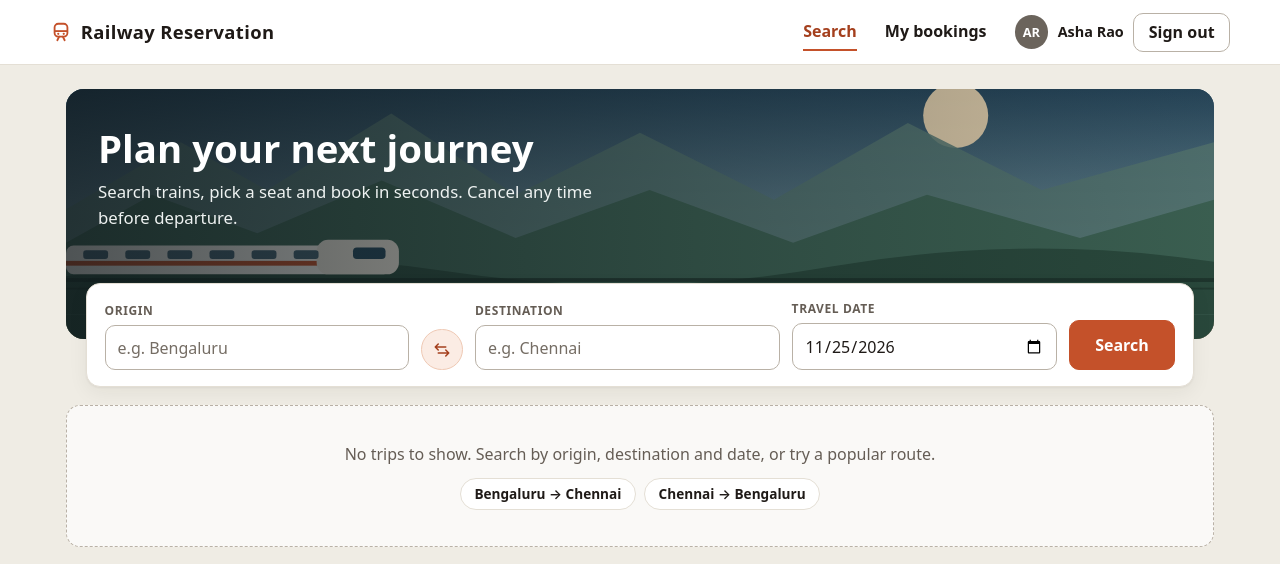
Test case: sign-out (SEC-03) › ends the server session, clears the stored session and returns to sign-in
The image size is (1280, 564).
Click the button "Sign out" at (1182, 32), box [1133,13,1230,52]
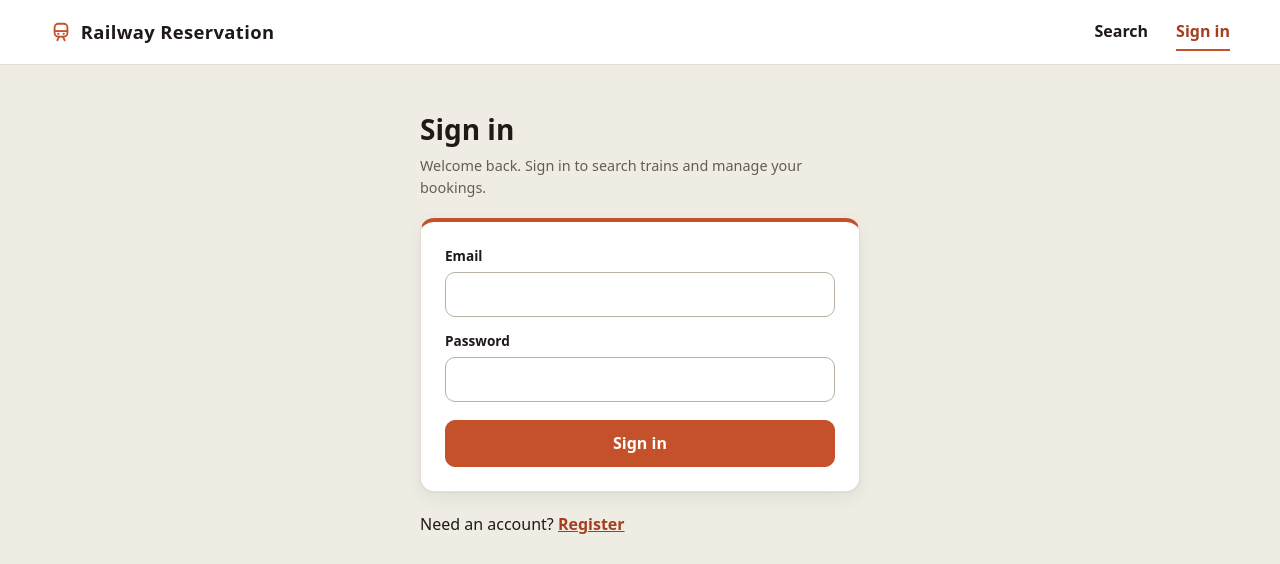
Check: the heading "Sign in" is shown, box [420,110,514,148]
